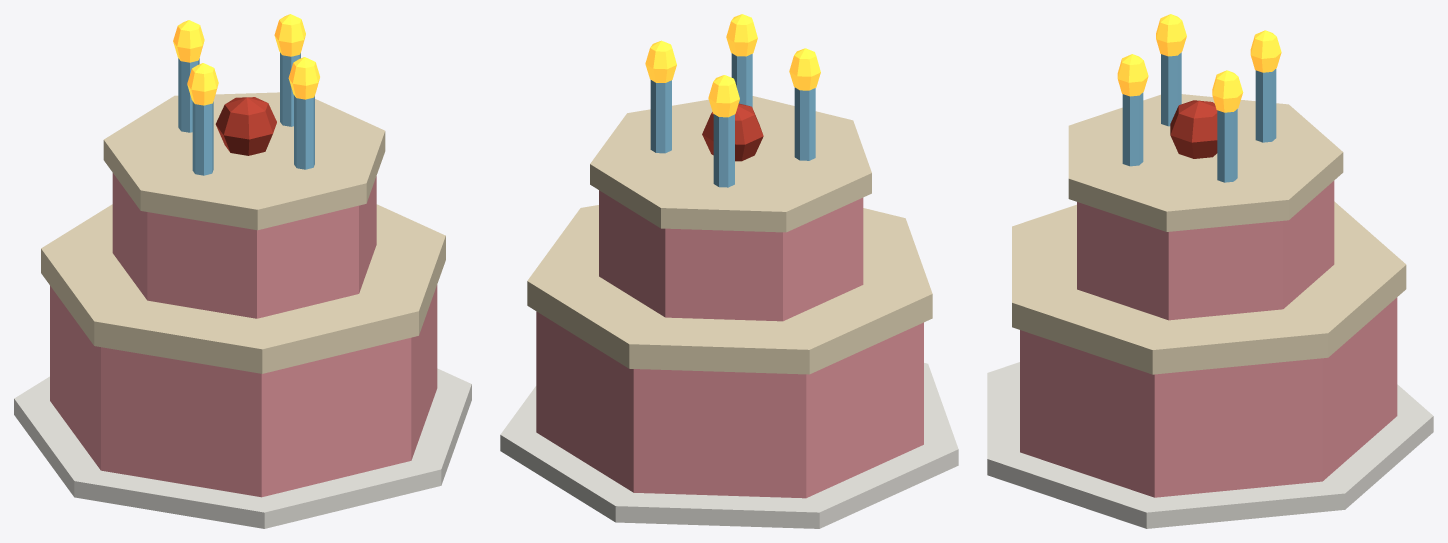
Rendered from cake-lod1.glb.
3 renders of one model, left to right at view 1: azimuth 30°, elevation 25°; view 2: azimuth 150°, elevation 25°; view 3: azimuth 270°, elevation 25°, orthographic.
Visible parts, largest first — view 1: cake; view 2: cake; view 3: cake.
Part boxes in pixels (x1=…): cake: x1=14, y1=14, x2=471, y2=528; cake: x1=500, y1=14, x2=958, y2=528; cake: x1=987, y1=14, x2=1433, y2=528.
Size of the model in its own units: 0.507 by 0.477 by 0.4943.
